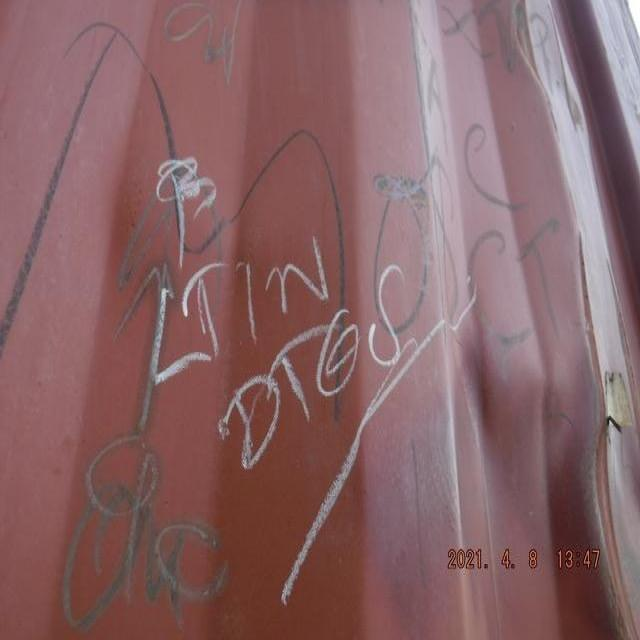dent: (357, 243, 640, 515), (474, 1, 596, 136)
